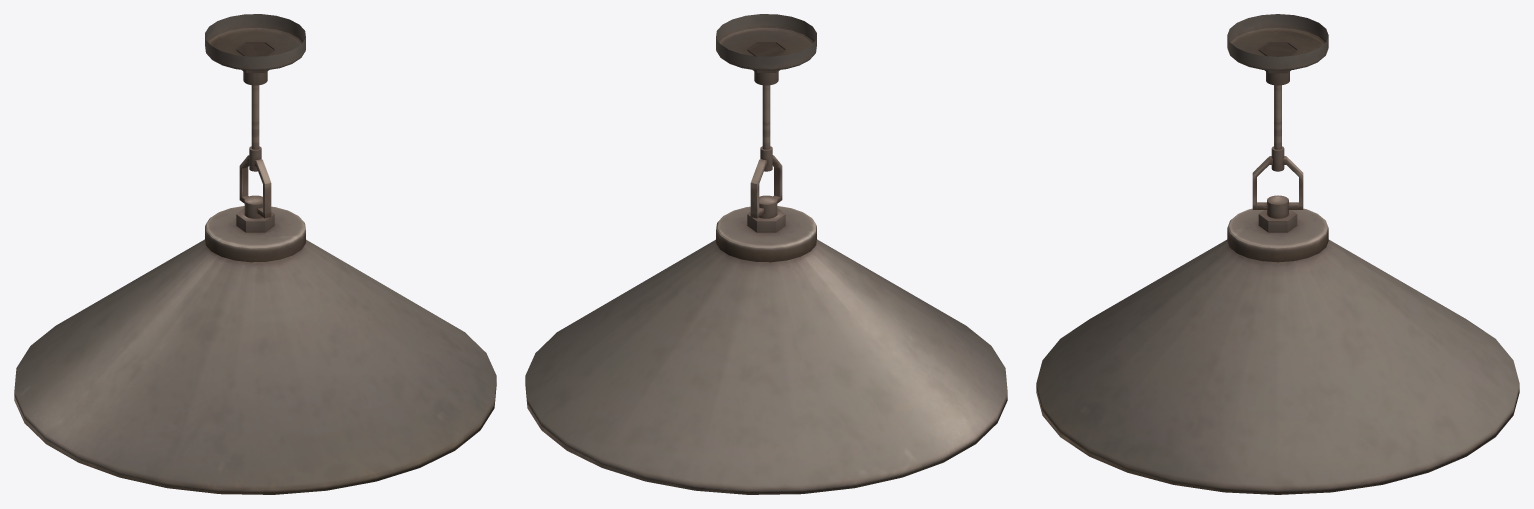
Rendered from SM_CeilingLamp.fbx.
3 views of the same model, side by side, from view 1: azimuth 30°, elevation 25°; view 2: azimuth 150°, elevation 25°; view 3: azimuth 270°, elevation 25° (orthographic).
Visible parts, largest first — view 1: SM_CeilingLamp_LOD0; view 2: SM_CeilingLamp_LOD0; view 3: SM_CeilingLamp_LOD0.
Part boxes in pixels (x1=…): SM_CeilingLamp_LOD0: x1=14, y1=14, x2=496, y2=494; SM_CeilingLamp_LOD0: x1=525, y1=14, x2=1007, y2=494; SM_CeilingLamp_LOD0: x1=1036, y1=14, x2=1519, y2=494.
Bounding box in the file's own units: 71.55 × 71.55 × 58.41.
Materials: 2 (1 with a texture image).
